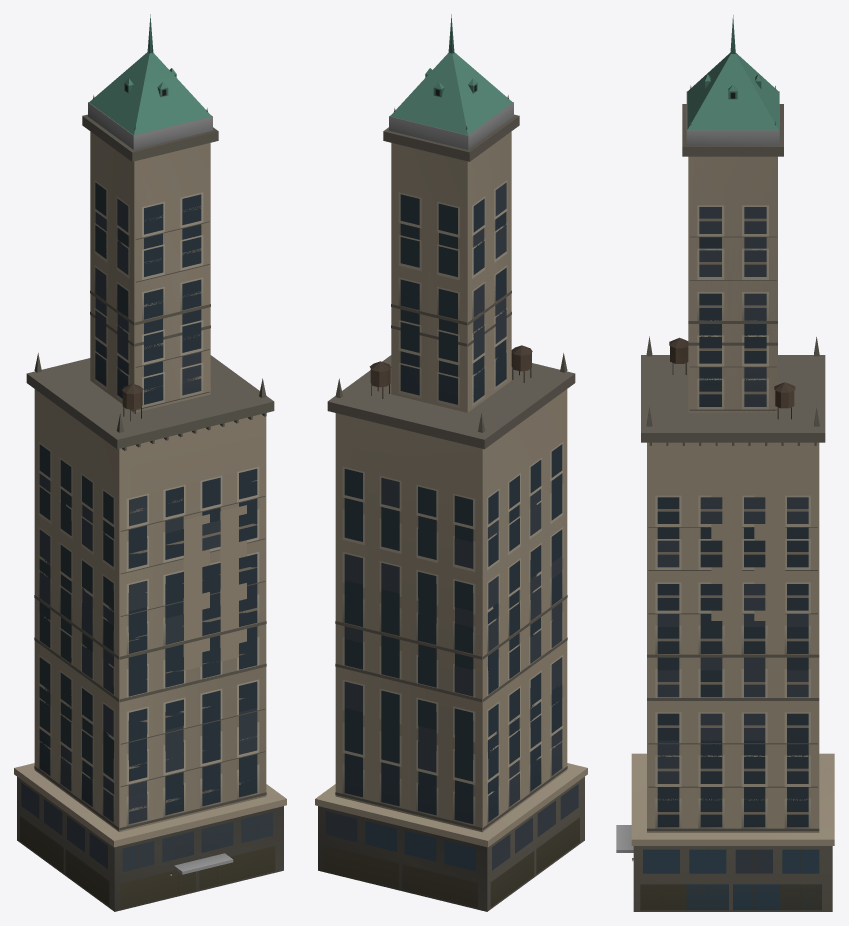
File: bld_ww1_skyscraper.glb
3 renders of one model, left to right at view 1: azimuth 30°, elevation 25°; view 2: azimuth 150°, elevation 25°; view 3: azimuth 270°, elevation 25°, orthographic.
Visible parts, largest first — view 1: bld_ww1_skyscraper_LOD0_mesh, bld_ww1_skyscraper_LOD2_mesh, bld_ww1_skyscraper_LOD1_mesh; view 2: bld_ww1_skyscraper_LOD0_mesh, bld_ww1_skyscraper_LOD1_mesh, bld_ww1_skyscraper_LOD2_mesh; view 3: bld_ww1_skyscraper_LOD0_mesh, bld_ww1_skyscraper_LOD2_mesh, bld_ww1_skyscraper_LOD1_mesh.
Boxes of the visible parts, <box> form: bld_ww1_skyscraper_LOD0_mesh: <box>14,14,286,911</box>; bld_ww1_skyscraper_LOD2_mesh: <box>17,52,273,911</box>; bld_ww1_skyscraper_LOD1_mesh: <box>14,19,286,908</box>; bld_ww1_skyscraper_LOD0_mesh: <box>318,15,587,911</box>; bld_ww1_skyscraper_LOD1_mesh: <box>315,14,587,907</box>; bld_ww1_skyscraper_LOD2_mesh: <box>328,52,584,911</box>; bld_ww1_skyscraper_LOD0_mesh: <box>616,15,834,910</box>; bld_ww1_skyscraper_LOD2_mesh: <box>633,53,832,911</box>; bld_ww1_skyscraper_LOD1_mesh: <box>631,18,834,910</box>.
Size of the model in its own units: 30.6 by 142 by 32.9.
